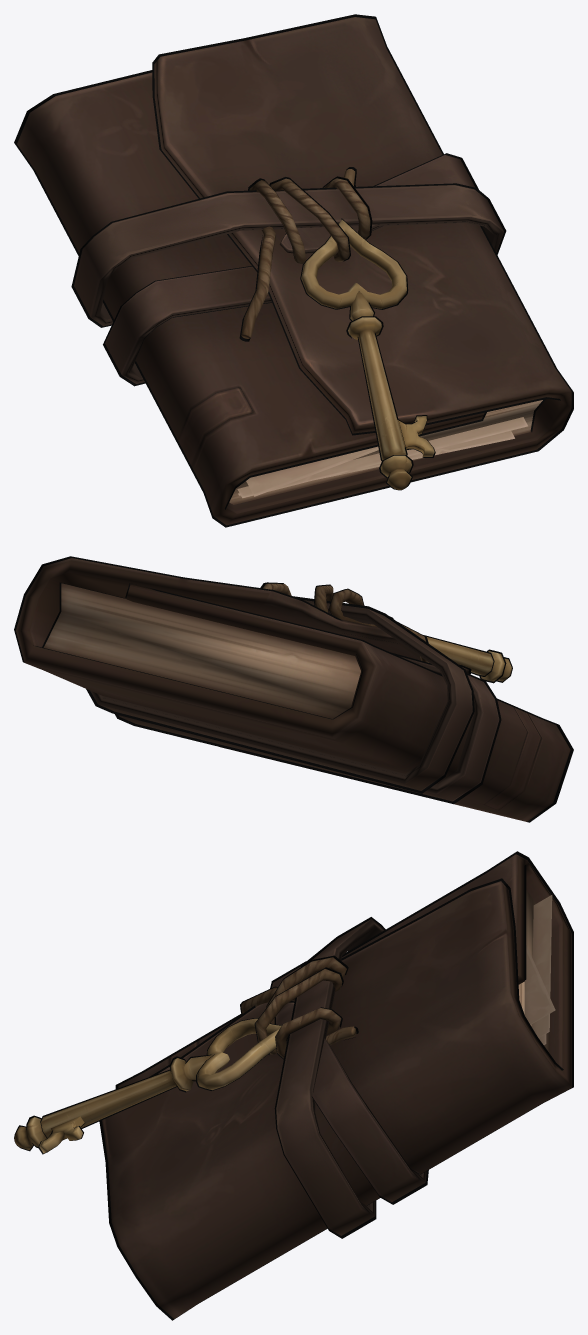
File: tbooooooook.glb
3 views of the same model, one above another, from view 1: azimuth 30°, elevation 25°; view 2: azimuth 150°, elevation 25°; view 3: azimuth 270°, elevation 25° (orthographic). The views are drawn at different scales.
Parts seen in each view (by area): view 1: book_FIN:polySurface11polySurface13, book_FIN:polySurface4polySurface4polySurface19, flip1, book_FIN:polySurface11polySurface15, wwwwwww:polySurface4polySurface4polySurface21 polySurface6, wwwwwww:polySurface4polySurface4polySurface21 polySurface2, book_FIN:polySurface12polySurface11, flip2, book_FIN:polySurface4polySurface4polySurface22, book_FIN:polySurface4polySurface4, flip3, wwwwwww:polySurface4polySurface4polySurface21 polySurface1 (+2 smaller); view 2: book_FIN:polySurface11polySurface13, book_FIN:polySurface12polySurface11, book_FIN:polySurface4polySurface4polySurface19, flip2, flip1, wwwwwww:polySurface4polySurface4polySurface21 polySurface6, book_FIN:polySurface11polySurface15, wwwwwww:polySurface4polySurface4polySurface21 polySurface3; view 3: book_FIN:polySurface11polySurface13, book_FIN:polySurface4polySurface4polySurface19, flip1, wwwwwww:polySurface4polySurface4polySurface21 polySurface6, book_FIN:polySurface11polySurface15, wwwwwww:polySurface4polySurface4polySurface21 polySurface2, book_FIN:polySurface4polySurface4polySurface22, flip2, book_FIN:polySurface4polySurface4, wwwwwww:polySurface4polySurface4polySurface21 polySurface1, book_FIN:polySurface12polySurface11, wwwwwww:polySurface4polySurface4polySurface21 polySurface3 (+1 smaller).
Boxes of the visible parts, <box> form: book_FIN:polySurface11polySurface13: <box>17,17,571,525</box>; book_FIN:polySurface4polySurface4polySurface19: <box>74,155,503,383</box>; flip1: <box>14,14,573,527</box>; book_FIN:polySurface11polySurface15: <box>241,169,370,338</box>; wwwwwww:polySurface4polySurface4polySurface21 polySurface6: <box>348,292,411,489</box>; wwwwwww:polySurface4polySurface4polySurface21 polySurface2: <box>301,219,406,308</box>; book_FIN:polySurface12polySurface11: <box>229,400,542,504</box>; flip2: <box>71,153,506,386</box>; book_FIN:polySurface4polySurface4polySurface22: <box>237,417,527,498</box>; book_FIN:polySurface4polySurface4: <box>246,446,378,496</box>; flip3: <box>239,167,372,341</box>; wwwwwww:polySurface4polySurface4polySurface21 polySurface1: <box>397,416,434,456</box>; book_FIN:polySurface11polySurface13: <box>16,558,570,821</box>; book_FIN:polySurface12polySurface11: <box>43,583,360,718</box>; book_FIN:polySurface4polySurface4polySurface19: <box>90,600,499,801</box>; flip2: <box>86,596,501,804</box>; flip1: <box>14,556,573,822</box>; wwwwwww:polySurface4polySurface4polySurface21 polySurface6: <box>427,637,511,681</box>; book_FIN:polySurface11polySurface15: <box>263,583,428,662</box>; wwwwwww:polySurface4polySurface4polySurface21 polySurface3: <box>390,616,512,683</box>; book_FIN:polySurface11polySurface13: <box>102,854,571,1318</box>; book_FIN:polySurface4polySurface4polySurface19: <box>272,919,426,1235</box>; flip1: <box>99,851,573,1320</box>; wwwwwww:polySurface4polySurface4polySurface21 polySurface6: <box>14,1055,212,1149</box>; book_FIN:polySurface11polySurface15: <box>241,957,356,1058</box>; wwwwwww:polySurface4polySurface4polySurface21 polySurface2: <box>197,1018,281,1090</box>; book_FIN:polySurface4polySurface4polySurface22: <box>531,895,552,1037</box>; flip2: <box>270,917,428,1238</box>; book_FIN:polySurface4polySurface4: <box>524,945,555,1024</box>; wwwwwww:polySurface4polySurface4polySurface21 polySurface1: <box>39,1116,84,1153</box>; book_FIN:polySurface12polySurface11: <box>518,890,549,1053</box>; wwwwwww:polySurface4polySurface4polySurface21 polySurface3: <box>14,1054,211,1151</box>.
Size of the model in its own units: 3.09 by 2.61 by 3.96.
3 materials, 2 textured.
